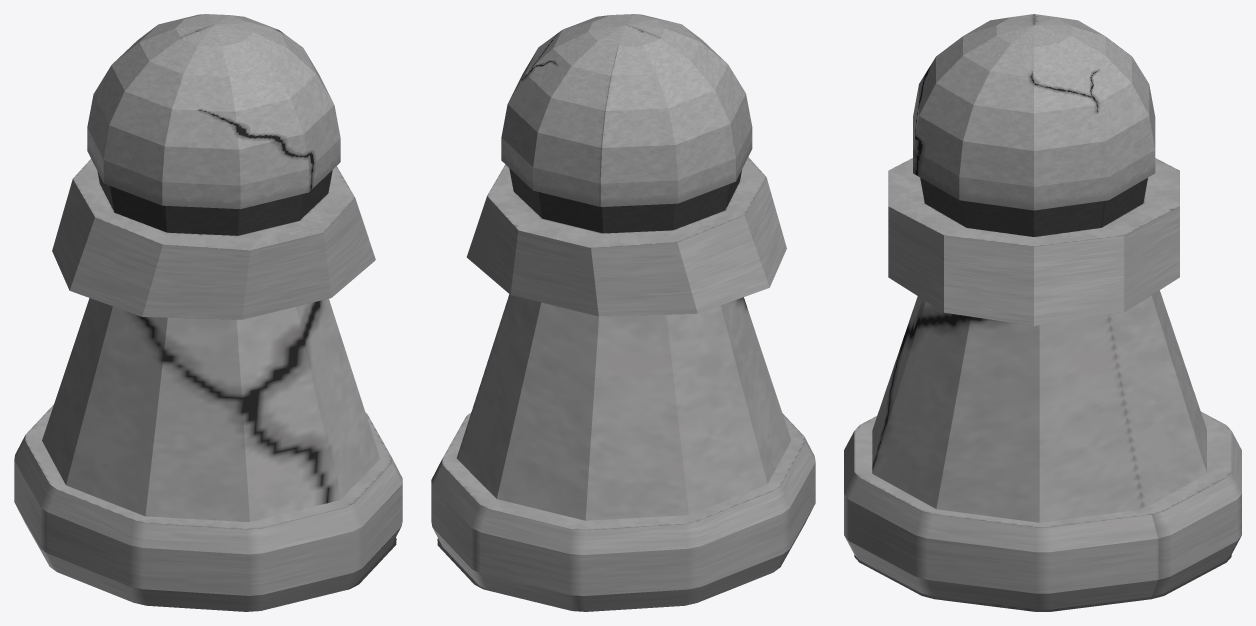
File: PawnWhite.fbx
3 renders of one model, left to right at view 1: azimuth 30°, elevation 25°; view 2: azimuth 150°, elevation 25°; view 3: azimuth 270°, elevation 25°, orthographic.
Visible parts, largest first — view 1: polySurface1; view 2: polySurface1; view 3: polySurface1.
Part boxes in pixels (bbox=[...]): polySurface1: bbox=[14, 14, 402, 611]; polySurface1: bbox=[431, 14, 815, 611]; polySurface1: bbox=[844, 14, 1241, 611].
Bounding box in the file's own units: 2.98 × 4.41 × 3.13.
